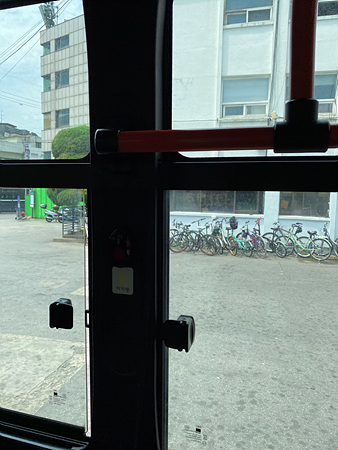bell: (111, 228, 135, 267)
